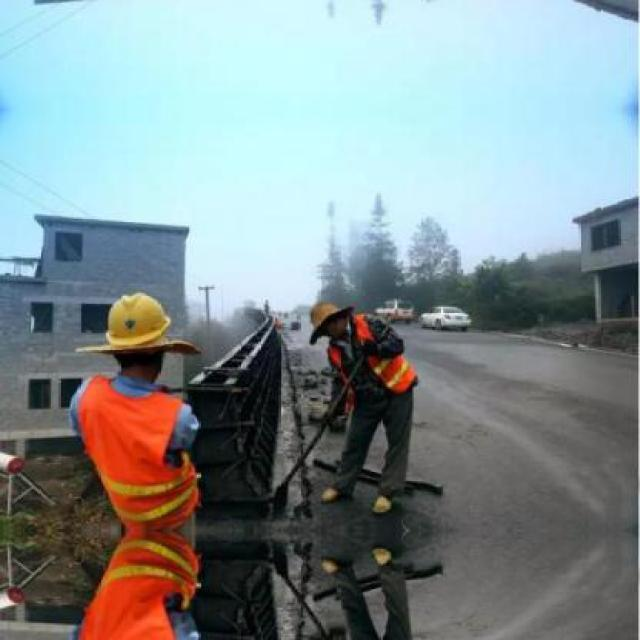helmet: (98, 287, 176, 381), (305, 297, 350, 340)
